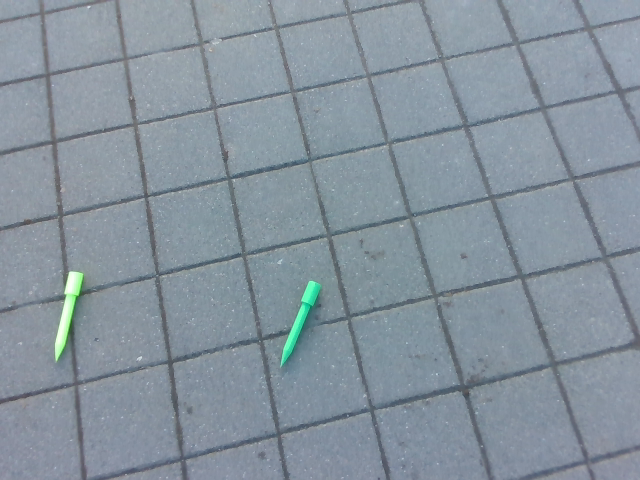Probe: (279, 274, 325, 374), (51, 268, 86, 369)
